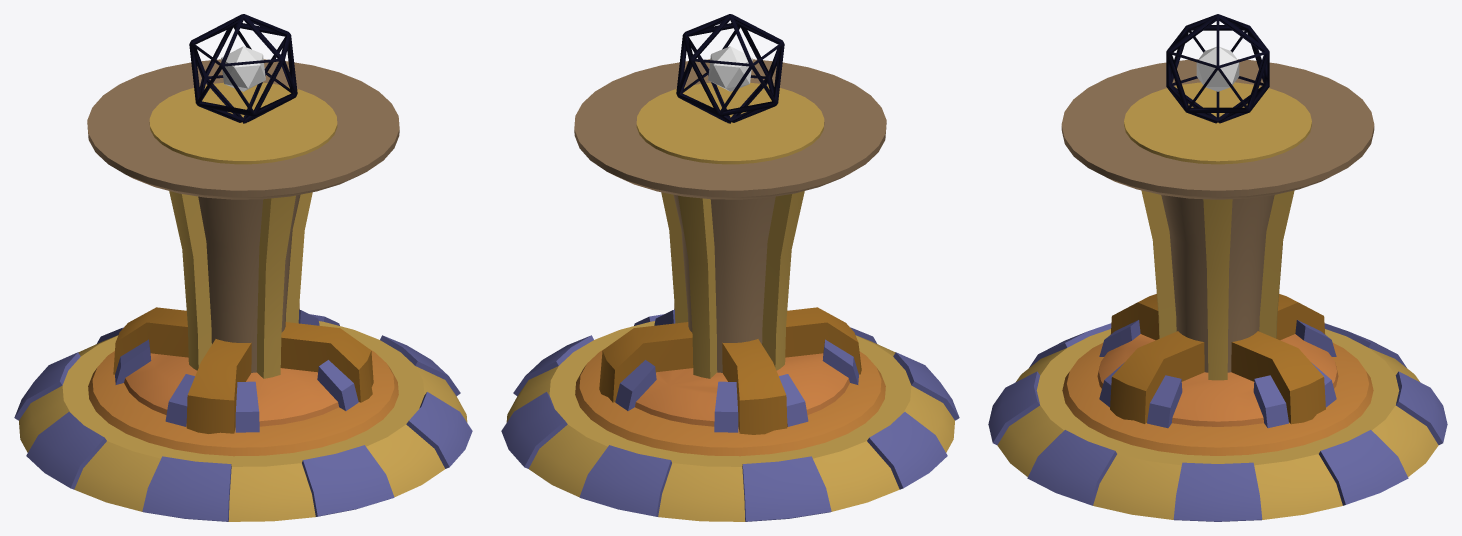
Rendered from Pilar.fbx.
3 views of the same model, side by side, from view 1: azimuth 30°, elevation 25°; view 2: azimuth 150°, elevation 25°; view 3: azimuth 270°, elevation 25° (orthographic).
Visible parts, largest first — view 1: Cylinder, Cylinder.003, Cylinder.001, Cylinder.002, Cylinder.006, Cylinder.004, Icosphere.001, Icosphere.002; view 2: Cylinder, Cylinder.003, Cylinder.001, Cylinder.002, Cylinder.006, Cylinder.004, Icosphere.001, Icosphere.002; view 3: Cylinder, Cylinder.003, Cylinder.001, Cylinder.002, Cylinder.004, Cylinder.006, Icosphere.001, Icosphere.002.
Boxes of the visible parts, box(x1,y1,x2,y2) form: Cylinder: box(14, 314, 472, 521); Cylinder.003: box(113, 303, 373, 433); Cylinder.001: box(87, 59, 399, 199); Cylinder.002: box(169, 191, 312, 378); Cylinder.006: box(149, 82, 337, 164); Cylinder.004: box(88, 350, 398, 456); Icosphere.001: box(189, 14, 297, 123); Icosphere.002: box(221, 46, 265, 91); Cylinder: box(501, 314, 959, 521); Cylinder.003: box(599, 303, 861, 434); Cylinder.001: box(574, 59, 886, 199); Cylinder.002: box(661, 191, 804, 378); Cylinder.006: box(636, 82, 824, 164); Cylinder.004: box(575, 350, 885, 456); Icosphere.001: box(676, 14, 784, 123); Icosphere.002: box(708, 46, 752, 91); Cylinder: box(988, 323, 1447, 521); Cylinder.003: box(1097, 293, 1338, 428); Cylinder.001: box(1061, 59, 1374, 199); Cylinder.002: box(1141, 190, 1294, 380); Cylinder.004: box(1062, 343, 1373, 455); Cylinder.006: box(1124, 82, 1311, 164); Icosphere.001: box(1166, 14, 1269, 123); Icosphere.002: box(1196, 47, 1239, 91).
Bounding box in the file's own units: 108 × 107 × 108.
